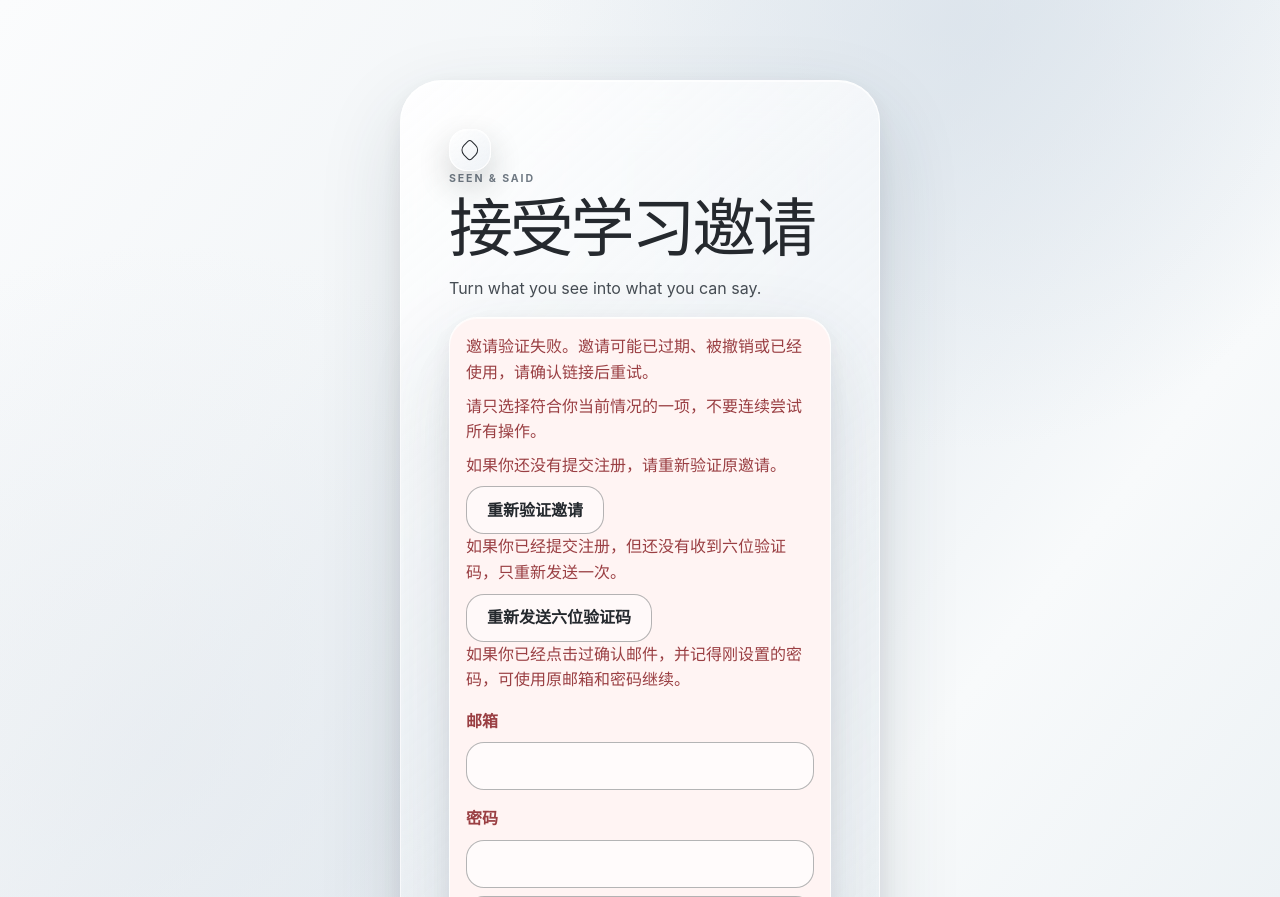
Web invitation terminal recovery guidance › stops recovery and gives one plain next step after resend returns 401
The width and height of the screenshot is (1280, 897).
Click the button "重新发送六位验证码": (559, 618) [466,594,652,642]
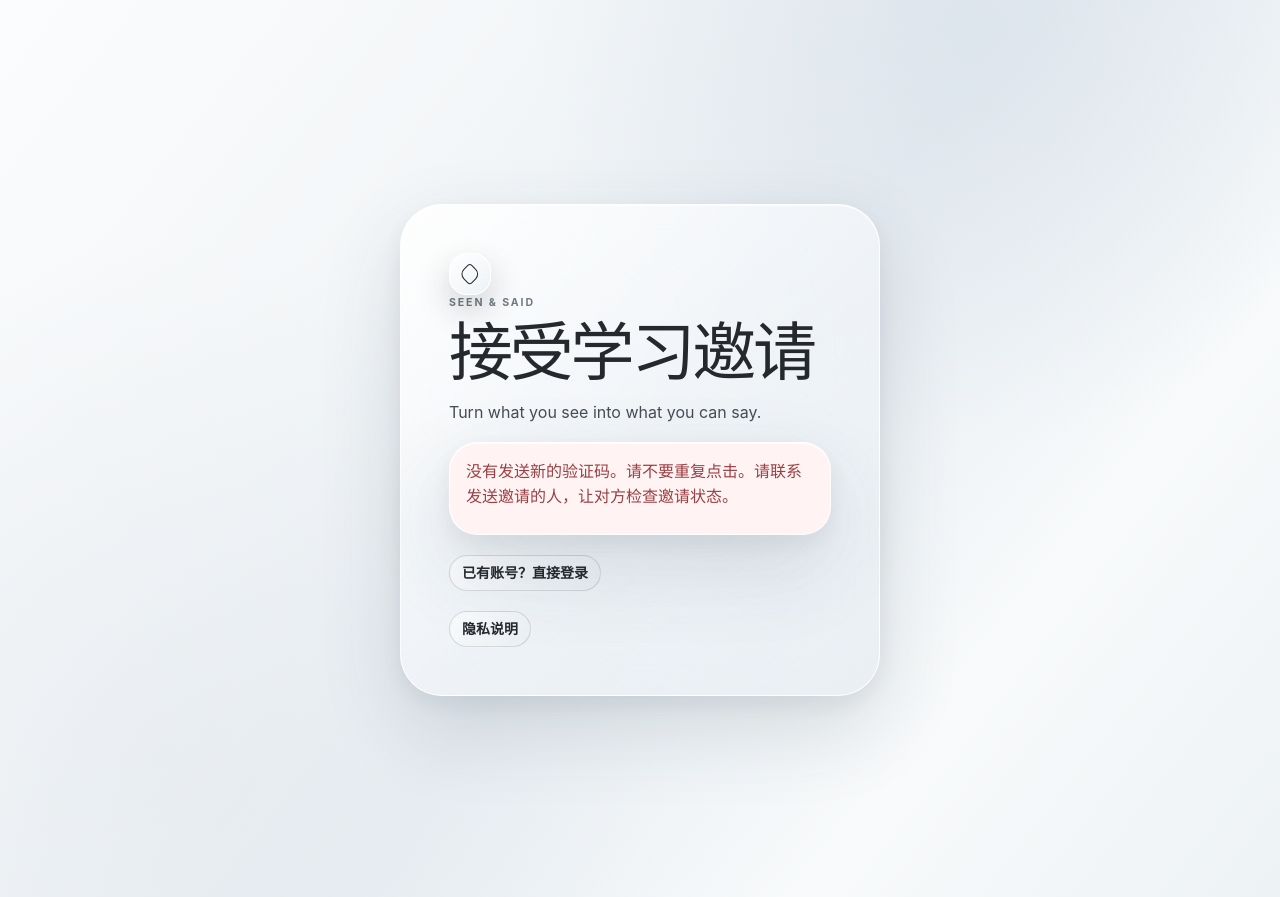
Result: the message "没有发送新的验证码。请不要重复点击。请联系发送邀请的人，让对方检查邀请状态。" is shown at [449,442,831,535]
